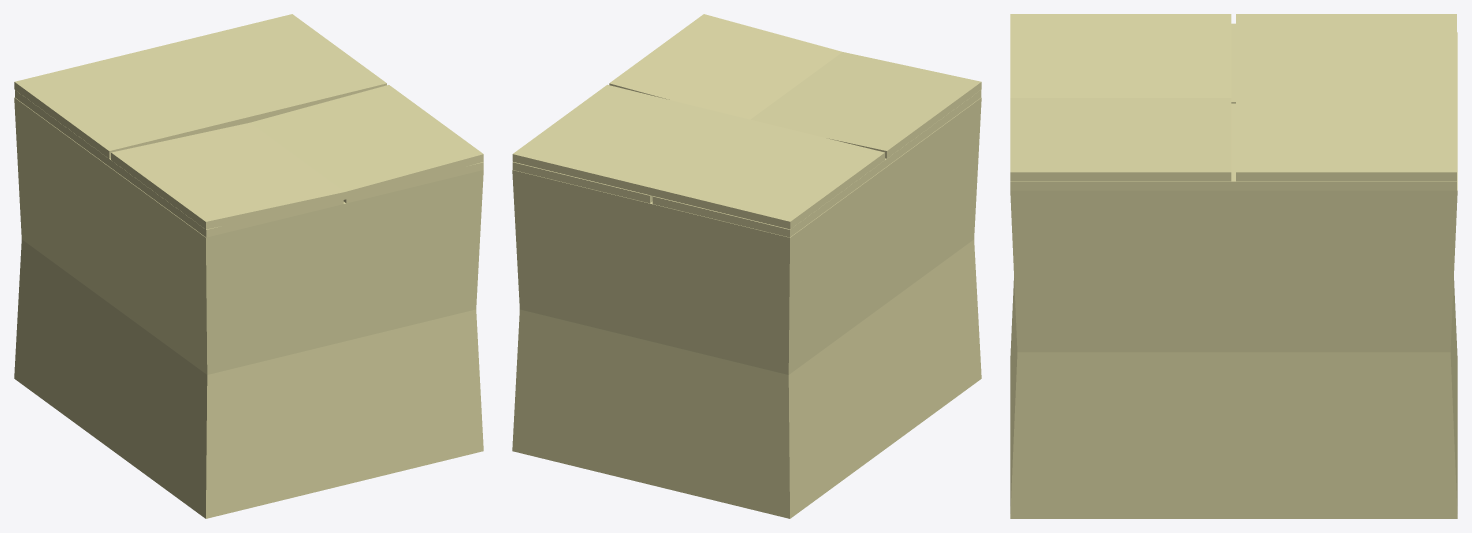
The picture shows the model from 3 angles, left to right: view 1: azimuth 30°, elevation 25°; view 2: azimuth 150°, elevation 25°; view 3: azimuth 270°, elevation 25°; orthographic projection. The views are drawn at different scales.
Parts seen in each view (by area): view 1: PR_Box, PR_BoxFlap4, PR_BoxFlap3, PR_BoxFlap1, PR_BoxFlap2; view 2: PR_Box, PR_BoxFlap3, PR_BoxFlap4, PR_BoxFlap1, PR_BoxFlap2; view 3: PR_Box, PR_BoxFlap4, PR_BoxFlap3, PR_BoxFlap2.
Boxes of the visible parts, bbox=[...] form: PR_Box: bbox=[14, 97, 483, 518]; PR_BoxFlap4: bbox=[111, 85, 483, 229]; PR_BoxFlap3: bbox=[14, 14, 386, 158]; PR_BoxFlap1: bbox=[15, 90, 343, 237]; PR_BoxFlap2: bbox=[343, 162, 483, 203]; PR_Box: bbox=[512, 97, 981, 518]; PR_BoxFlap3: bbox=[512, 84, 884, 229]; PR_BoxFlap4: bbox=[609, 14, 981, 158]; PR_BoxFlap1: bbox=[652, 90, 981, 237]; PR_BoxFlap2: bbox=[512, 162, 652, 203]; PR_Box: bbox=[1010, 32, 1457, 518]; PR_BoxFlap4: bbox=[1010, 14, 1231, 181]; PR_BoxFlap3: bbox=[1236, 14, 1456, 181]; PR_BoxFlap2: bbox=[1010, 103, 1456, 190].
Size of the model in its own units: 26.64 by 27.21 by 31.82.
